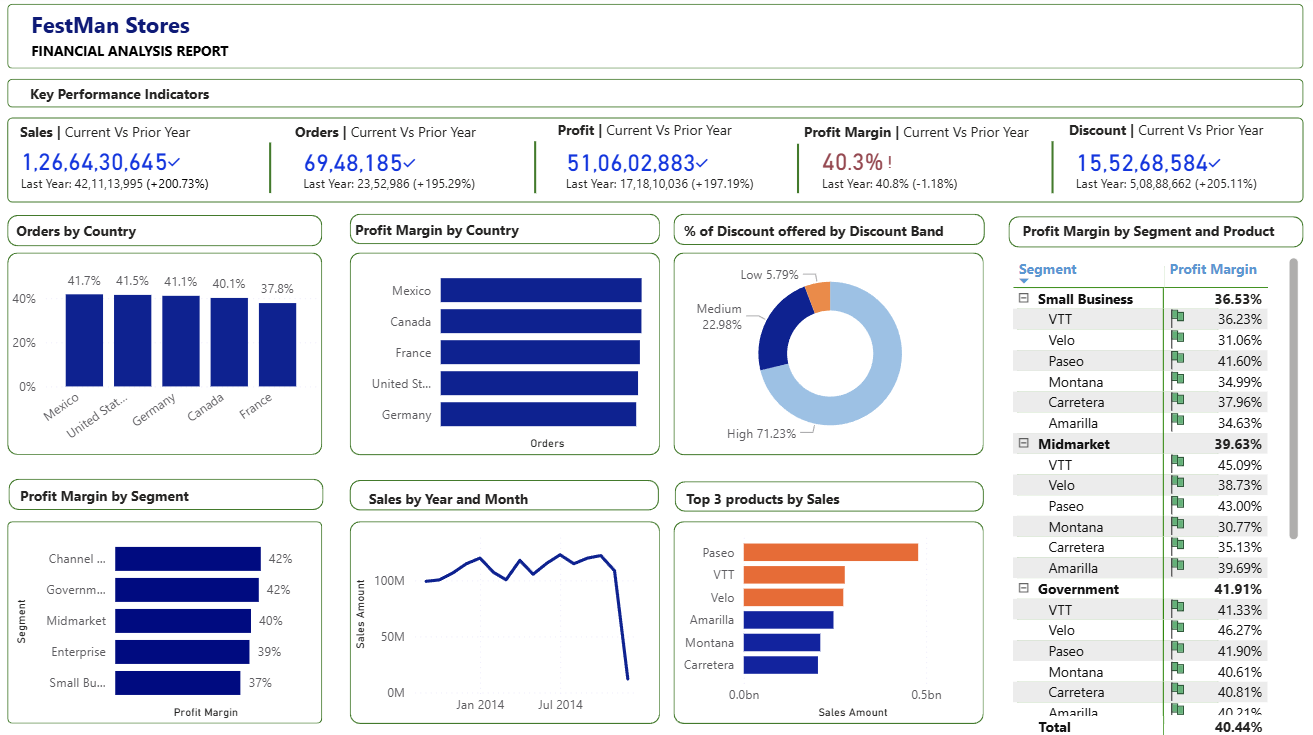

Layout of this report page (visuals, bound fields, positions):
{"tool":"powerbi","page":{"name":"Page 1","canvas":[1280,720],"ordinal":0},"visuals":[{"type":"shape","box":[985.7,261.8,194.2,441.6],"z":0},{"type":"shape","box":[10.9,8.4,1251.1,62.7],"z":1000},{"type":"shape","box":[10.9,80.8,1251.1,27.7],"z":2000},{"type":"shape","box":[10.9,118.2,1251.1,82],"z":3000},{"type":"shape","box":[10.9,248.5,304,195.4],"z":4000},{"type":"shape","box":[10.9,507.9,304,195.4],"z":5000},{"type":"shape","box":[341.2,248.2,299.6,195.7],"z":6000},{"type":"shape","box":[654.2,248.2,299.6,195.7],"z":7000},{"type":"shape","box":[654.2,507.5,299.6,195.7],"z":8000},{"type":"shape","box":[341.2,507.5,299.6,195.7],"z":9000},{"type":"shape","box":[12.1,466.9,304,30.2],"z":10000},{"type":"shape","box":[341.2,468.3,298.4,29.3],"z":11000},{"type":"shape","box":[655.4,469.6,298.4,29.3],"z":12000},{"type":"shape","box":[653.9,211.1,300.4,30.2],"z":13000},{"type":"shape","box":[341.2,211.6,299.6,29.3],"z":14000},{"type":"shape","box":[10.9,212.3,304,30.2],"z":15000},{"type":"textbox","box":[29,8.4,287.1,47.1],"z":16000},{"type":"textbox","box":[29,39.8,230.4,31.4],"z":17000},{"type":"textbox","box":[283.5,118.2,222,27.7],"z":18000},{"type":"kpi","fields":{"Indicator":["Analysis.Sales Amount"],"TrendLine":["Date Table.Year"],"Goal":["Analysis.Sales Amount LY"]},"box":[10.9,141.2,222,55.5],"z":19000},{"type":"textbox","box":[27.7,80.8,494.6,35],"z":20000},{"type":"shape","box":[190.8,141.8,148,48.9],"z":21000},{"type":"kpi","fields":{"TrendLine":["Date Table.Year"],"Indicator":["Analysis.Discount Offered"],"Goal":["Analysis.Discount Offered LY"]},"box":[1029.6,140.6,221.3,56.3],"z":22000},{"type":"kpi","fields":{"TrendLine":["Date Table.Year"],"Indicator":["Analysis.Profit Margin"],"Goal":["Analysis.Profit Margin LY"]},"box":[784.2,141.2,224.4,55.5],"z":23000},{"type":"kpi","fields":{"Indicator":["Analysis.Profit"],"Goal":["Analysis.Profit LY"],"TrendLine":["Date Table.Year"]},"box":[536.8,140.6,221.3,56.3],"z":24000},{"type":"textbox","box":[18.1,118.2,222,27.7],"z":25000},{"type":"textbox","box":[774.5,118.2,244.9,27.7],"z":26000},{"type":"textbox","box":[1030.3,115.8,222,30.2],"z":27000},{"type":"kpi","fields":{"TrendLine":["Date Table.Year"],"Indicator":["Analysis.Orders"],"Goal":["Analysis.Orders LY"]},"box":[283.7,140.6,221.3,56.3],"z":28000},{"type":"textbox","box":[536.9,115.8,220.8,27.7],"z":29000},{"type":"shape","box":[446.3,140.6,148,50.1],"z":30000},{"type":"shape","box":[719,143.1,110.1,47.7],"z":31000},{"type":"shape","box":[953.8,140.6,130.8,50.1],"z":32000},{"type":"barChart","fields":{"Category":["Financials.Country"],"Y":["Analysis.Orders"]},"box":[341.4,248.5,299.2,195.4],"z":33000},{"type":"textbox","box":[14.5,213.5,183.4,27.7],"z":34000},{"type":"clusteredColumnChart","fields":{"Y":["Analysis.Profit Margin"],"Category":["Financials.Country"]},"box":[10.9,248.5,304,195.4],"z":35000},{"type":"textbox","box":[341.4,212.3,277.5,27.7],"z":36000},{"type":"donutChart","fields":{"Category":["Financials.Discount Band"],"Y":["Analysis.Discount Offered"]},"box":[655.1,248.5,300.4,195.4],"z":37000},{"type":"textbox","box":[658.7,213.5,294.4,35],"z":38000},{"type":"barChart","fields":{"Category":["Financials.Segment"],"Y":["Analysis.Profit Margin"]},"box":[14.5,507.9,281.1,195.4],"z":39000},{"type":"textbox","box":[18.1,469.3,285.9,27.7],"z":40000},{"type":"lineChart","fields":{"Category":["Date Table.Date.Variation.Date Hierarchy.Year","Date Table.Date.Variation.Date Hierarchy.Month"],"Y":["Analysis.Sales Amount"]},"box":[341.4,507.9,295.6,195.4],"z":41000},{"type":"barChart","fields":{"Category":["Financials.Product"],"Y":["Analysis.Sales Amount"]},"box":[653.9,507.9,299.2,195.4],"z":42000},{"type":"textbox","box":[354.7,471.7,240.1,27.7],"z":43000},{"type":"textbox","box":[661.1,471.7,220.8,27.7],"z":44000},{"type":"pivotTable","fields":{"Rows":["Financials.Segment","Financials.Product"],"Values":["Analysis.Profit Margin"]},"box":[977.2,248.5,284.7,471.7],"z":45000},{"type":"shape","box":[977.2,213.5,284.7,30.2],"z":47000},{"type":"textbox","box":[985.7,213.5,265.4,35],"z":48000}]}

Visuals, with their boxes in screenshot pixels (x1, y1, x2, y2), scaled from the page's 1280x720 canvas onto the 1313x735 screenshot:
shape: 1011/267/1210/718
shape: 11/9/1295/73
shape: 11/82/1295/111
shape: 11/121/1295/204
shape: 11/254/323/453
shape: 11/518/323/718
shape: 350/253/657/453
shape: 671/253/978/453
shape: 671/518/978/718
shape: 350/518/657/718
shape: 12/477/324/507
shape: 350/478/656/508
shape: 672/479/978/509
shape: 671/215/979/246
shape: 350/216/657/246
shape: 11/217/323/248
textbox: 30/9/324/57
textbox: 30/41/266/73
textbox: 291/121/519/149
kpi - Analysis.Sales Amount x Date Table.Year: 11/144/239/201
textbox: 28/82/536/118
shape: 196/145/348/195
kpi - Date Table.Year x Analysis.Discount Offered: 1056/144/1283/201
kpi - Date Table.Year x Analysis.Profit Margin: 804/144/1035/201
kpi - Analysis.Profit x Analysis.Profit LY: 551/144/778/201
textbox: 19/121/246/149
textbox: 794/121/1046/149
textbox: 1057/118/1285/149
kpi - Date Table.Year x Analysis.Orders: 291/144/518/201
textbox: 551/118/777/146
shape: 458/144/610/195
shape: 738/146/850/195
shape: 978/144/1113/195
barChart - Financials.Country x Analysis.Orders: 350/254/657/453
textbox: 15/218/203/246
clusteredColumnChart - Analysis.Profit Margin x Financials.Country: 11/254/323/453
textbox: 350/217/635/245
donutChart - Financials.Discount Band x Analysis.Discount Offered: 672/254/980/453
textbox: 676/218/978/254
barChart - Financials.Segment x Analysis.Profit Margin: 15/518/303/718
textbox: 19/479/312/507
lineChart - Date Table.Date.Variation.Date Hierarchy.Year x Date Table.Date.Variation.Date Hierarchy.Month: 350/518/653/718
barChart - Financials.Product x Analysis.Sales Amount: 671/518/978/718
textbox: 364/482/610/510
textbox: 678/482/905/510
pivotTable - Financials.Segment x Financials.Product: 1002/254/1294/734
shape: 1002/218/1294/249
textbox: 1011/218/1283/254
